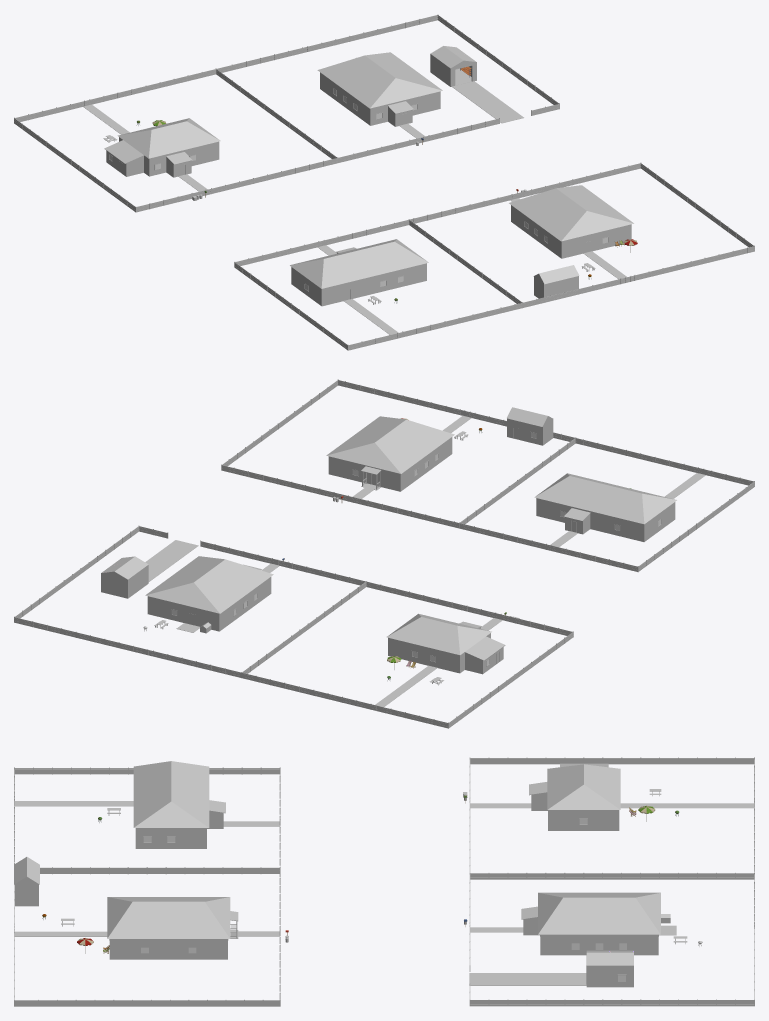
The model's file is HauseHutor01.fbx.
3 renders of one model, top to bottom at view 1: azimuth 30°, elevation 25°; view 2: azimuth 150°, elevation 25°; view 3: azimuth 270°, elevation 25°, orthographic. The views are drawn at different scales.
Visible parts, largest first — view 1: Zabor.026, Roof.004, Roof, Zabor.011, Roof.006, Zabor.007, Zabor.015, HauseF, RoofHause.001, HauseD, HauseB, Garaje (+3 smaller); view 2: Roof, Roof.004, Zabor.011, Zabor.026, Roof.006, Zabor.007, Zabor.015, RoofHause.001, HauseF, HauseB, HauseD, Garaje (+3 smaller); view 3: Roof, Roof.004, Roof.006, Zabor.011, Zabor.026, RoofHause.001, HauseD, Zabor.007, HauseB, Garaje, Zabor.015, Cube.001 (+7 smaller).
Boxes of the visible parts, x1=… form: Zabor.026: x1=408, y1=162, x2=754, y2=307; Roof.004: x1=509, y1=185, x2=633, y2=241; Roof: x1=317, y1=52, x2=442, y2=108; Zabor.011: x1=14, y1=68, x2=338, y2=212; Roof.006: x1=290, y1=239, x2=428, y2=288; Zabor.007: x1=217, y1=14, x2=559, y2=162; Zabor.015: x1=234, y1=219, x2=522, y2=350; HauseF: x1=291, y1=263, x2=426, y2=305; RoofHause.001: x1=117, y1=118, x2=220, y2=158; HauseD: x1=511, y1=205, x2=631, y2=258; HauseB: x1=320, y1=72, x2=440, y2=125; Garaje: x1=430, y1=46, x2=476, y2=86; Roof: x1=145, y1=556, x2=273, y2=613; Roof.004: x1=326, y1=416, x2=454, y2=473; Zabor.011: x1=241, y1=581, x2=573, y2=728; Zabor.026: x1=221, y1=379, x2=576, y2=528; Roof.006: x1=534, y1=473, x2=676, y2=524; Zabor.007: x1=14, y1=525, x2=365, y2=677; Zabor.015: x1=459, y1=438, x2=754, y2=572; RoofHause.001: x1=386, y1=613, x2=491, y2=654; HauseF: x1=536, y1=498, x2=675, y2=541; HauseB: x1=147, y1=577, x2=271, y2=631; HauseD: x1=328, y1=437, x2=452, y2=491; Garaje: x1=101, y1=556, x2=148, y2=598; Roof: x1=538, y1=892, x2=660, y2=934; Roof.004: x1=107, y1=897, x2=230, y2=938; Roof.006: x1=133, y1=761, x2=209, y2=827; Zabor.011: x1=469, y1=757, x2=754, y2=879; Zabor.026: x1=14, y1=867, x2=280, y2=1006; RoofHause.001: x1=547, y1=764, x2=620, y2=809; HauseD: x1=109, y1=939, x2=228, y2=959; Zabor.007: x1=469, y1=874, x2=754, y2=1006; HauseB: x1=540, y1=934, x2=658, y2=955; Garaje: x1=586, y1=950, x2=633, y2=986; Zabor.015: x1=14, y1=767, x2=280, y2=866; Cube.001: x1=469, y1=973, x2=586, y2=985.
Bounding box in the file's own units: 9688 × 721 × 12513.
